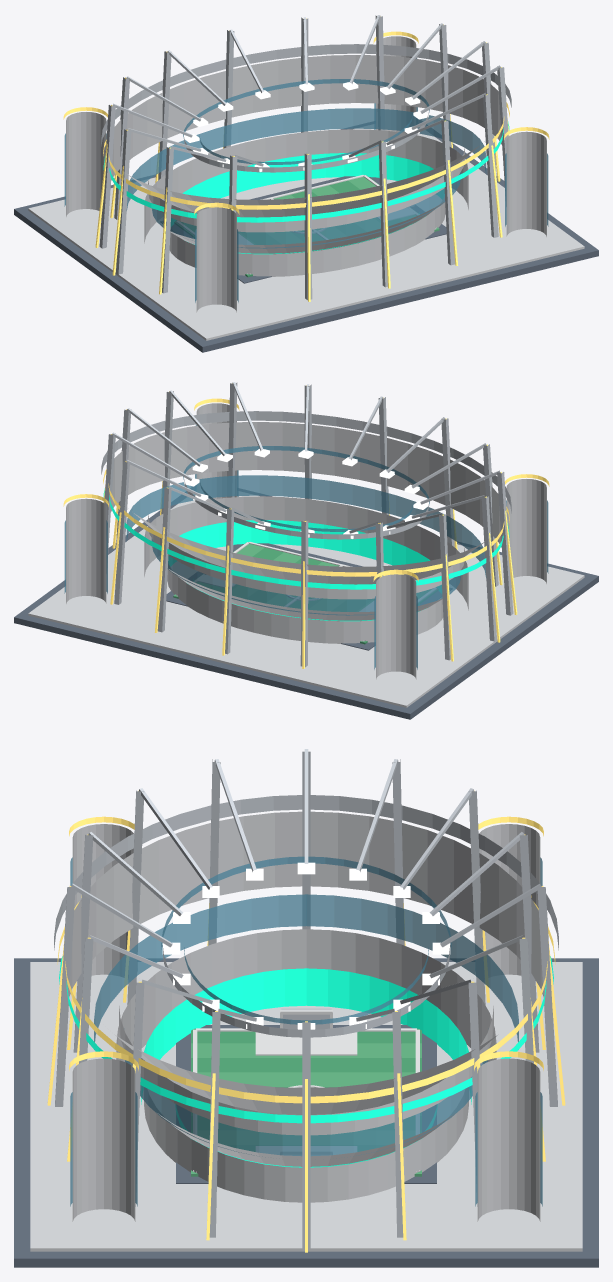
Rendered from stadium_bowl_core.master.glb.
3 views of the same model, one above another, from view 1: azimuth 30°, elevation 25°; view 2: azimuth 150°, elevation 25°; view 3: azimuth 270°, elevation 25° (orthographic). The views are drawn at different scales.
Visible parts, largest first — view 1: stadium_bowl_core_master; view 2: stadium_bowl_core_master; view 3: stadium_bowl_core_master.
Part boxes in pixels (x1,y1,x2,y2): stadium_bowl_core_master: (14, 15, 598, 352); stadium_bowl_core_master: (14, 382, 598, 719); stadium_bowl_core_master: (14, 749, 598, 1267).
Size of the model in its own units: 5.68 by 2.06 by 4.68.
